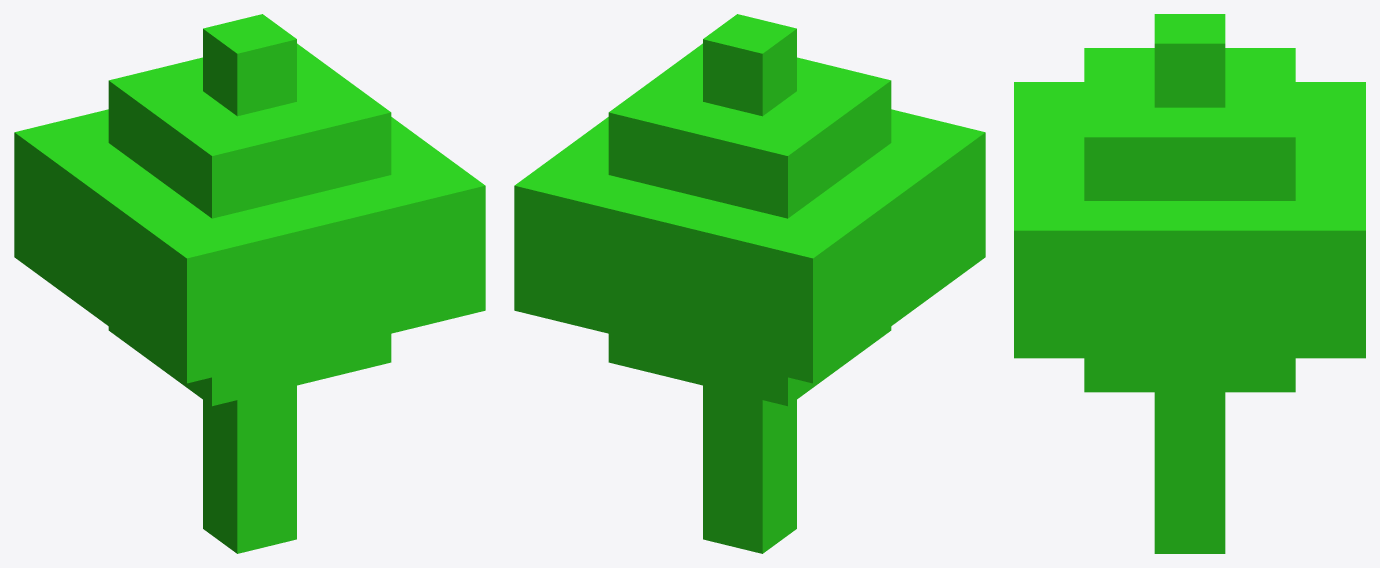
File: Tree2.FBX
The picture shows the model from 3 angles, left to right: view 1: azimuth 30°, elevation 25°; view 2: azimuth 150°, elevation 25°; view 3: azimuth 270°, elevation 25°; orthographic projection. The views are drawn at different scales.
Parts seen in each view (by area): view 1: Leaves1, Tronc1; view 2: Leaves1, Tronc1; view 3: Leaves1, Tronc1.
Part boxes in pixels (<box>): Leaves1: <box>14,14,485,406</box>; Tronc1: <box>203,385,296,553</box>; Leaves1: <box>514,14,985,406</box>; Tronc1: <box>703,385,796,553</box>; Leaves1: <box>1014,14,1365,392</box>; Tronc1: <box>1154,392,1225,553</box>.
Size of the model in its own units: 500 by 800 by 500.
